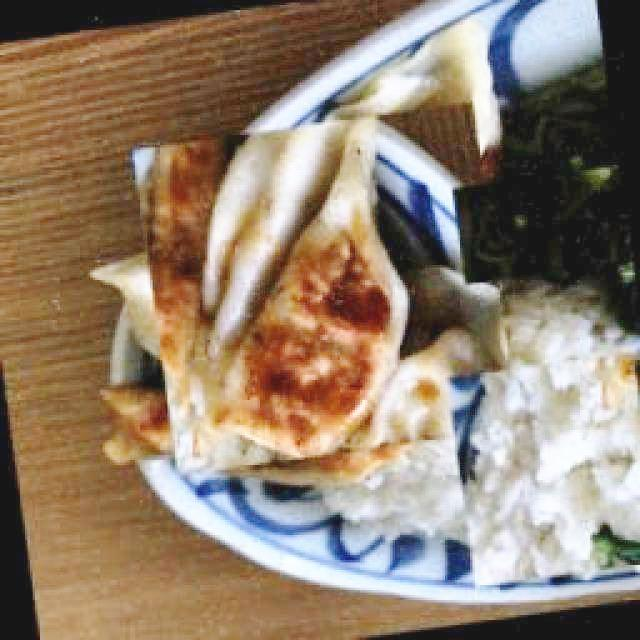fried_dumplings: (229, 127, 413, 457)
rice: (340, 304, 640, 587)
